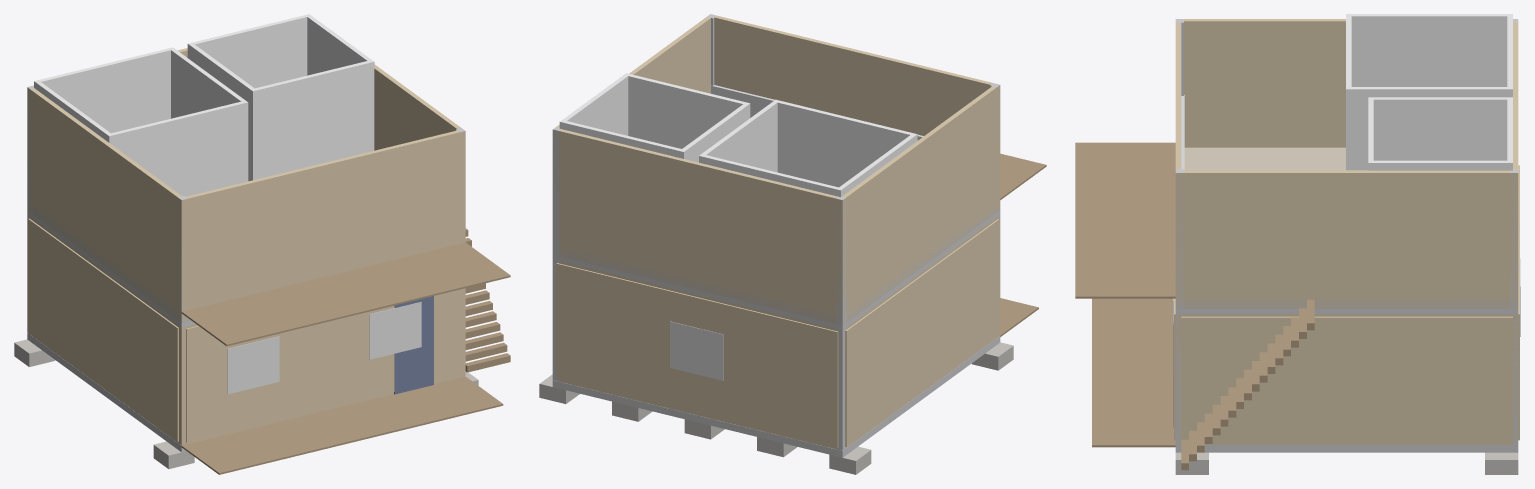
File: Duplex-20-Base-LightBrownSand-LOD3.glb
3 renders of one model, left to right at view 1: azimuth 30°, elevation 25°; view 2: azimuth 150°, elevation 25°; view 3: azimuth 270°, elevation 25°, orthographic. The views are drawn at different scales.
Parts seen in each view (by area): view 1: ExteriorShellUpper, ExteriorPanelsStandard, StudyUpper, BedroomUpper, BalconyUpper, BalconyGround, WindowsStandard, StaircaseExternal, ExteriorShell, EntryDoor, FoundationBlocks, FloorUpper (+3 smaller); view 2: ExteriorShellUpper, ExteriorPanelsStandard, BedroomUpper, StudyUpper, FloorUpper, VerticalStructure, FoundationBlocks, BaseFrame, ExteriorShell, WindowsStandard, TopFrame, BalconyUpper (+2 smaller); view 3: ExteriorShellUpper, ExteriorPanelsStandard, BalconyUpper, BedroomUpper, BalconyGround, StudyUpper, FloorUpper, StaircaseExternal, ExteriorShell, VerticalStructure, BaseFrame, TopFrame (+1 smaller).
Boxes of the visible parts, box(x1,y1,x2,y2) form: ExteriorShellUpper: box(27, 48, 465, 315); ExteriorPanelsStandard: box(28, 218, 461, 442); StudyUpper: box(187, 14, 374, 181); BedroomUpper: box(34, 47, 248, 196); BalconyUpper: box(181, 242, 510, 346); BalconyGround: box(181, 376, 503, 474); WindowsStandard: box(227, 301, 421, 394); StaircaseExternal: box(465, 228, 510, 372); ExteriorShell: box(27, 214, 465, 445); EntryDoor: box(394, 296, 433, 394); FoundationBlocks: box(14, 339, 478, 469); FloorUpper: box(27, 201, 190, 322); ExteriorShellUpper: box(553, 15, 1000, 320); ExteriorPanelsStandard: box(556, 219, 999, 447); BedroomUpper: box(699, 99, 917, 197); StudyUpper: box(559, 73, 750, 162); FloorUpper: box(559, 206, 1000, 324); VerticalStructure: box(552, 14, 999, 450); FoundationBlocks: box(539, 342, 1013, 474); BaseFrame: box(552, 336, 1000, 457); ExteriorShell: box(559, 215, 1000, 448); WindowsStandard: box(670, 321, 723, 380); TopFrame: box(559, 210, 1000, 329); BalconyUpper: box(1000, 153, 1046, 199); ExteriorShellUpper: box(1175, 19, 1518, 303); ExteriorPanelsStandard: box(1174, 165, 1519, 443); BalconyUpper: box(1075, 142, 1175, 298); BedroomUpper: box(1346, 14, 1512, 170); BalconyGround: box(1092, 298, 1175, 447); StudyUpper: box(1368, 97, 1512, 170); FloorUpper: box(1176, 147, 1518, 308); StaircaseExternal: box(1181, 299, 1314, 470); ExteriorShell: box(1175, 314, 1518, 445); VerticalStructure: box(1175, 19, 1518, 445); BaseFrame: box(1175, 445, 1518, 452); TopFrame: box(1175, 309, 1518, 313).
Bounding box in the file's own units: 7.94 × 6 × 8.
